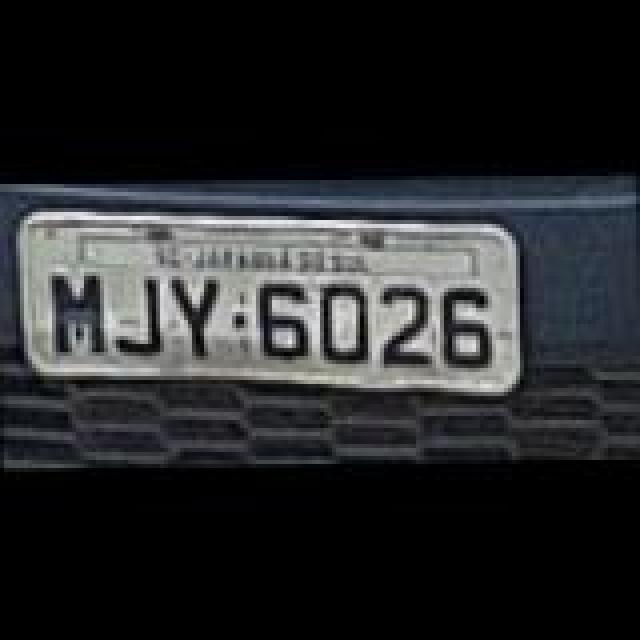2: (382, 280, 434, 364)
6: (258, 276, 310, 356), (442, 286, 494, 366)
D: (322, 280, 374, 360)
J: (110, 276, 162, 356)
M: (56, 270, 104, 354)
Y: (176, 274, 224, 354)
